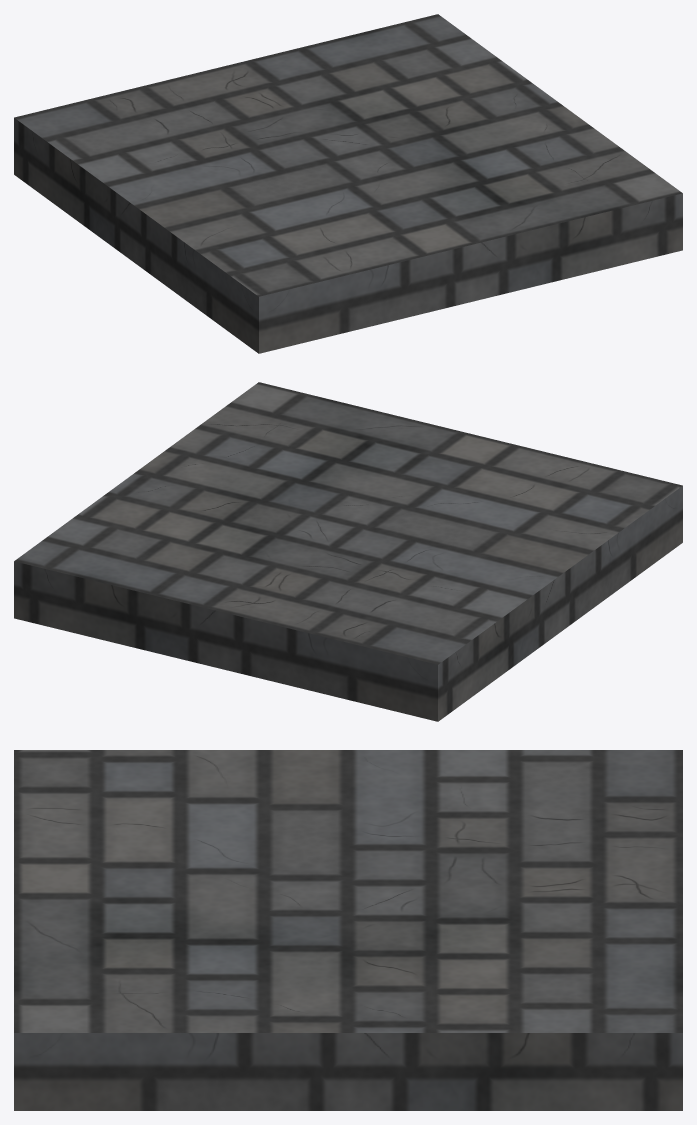
File: kit_ceiling.glb
The picture shows the model from 3 angles, top to bottom: view 1: azimuth 30°, elevation 25°; view 2: azimuth 150°, elevation 25°; view 3: azimuth 270°, elevation 25°; orthographic projection. The views are drawn at different scales.
Visible parts, largest first — view 1: kit_ceiling; view 2: kit_ceiling; view 3: kit_ceiling.
Part boxes in pixels (x1=…): kit_ceiling: x1=14, y1=14, x2=682, y2=353; kit_ceiling: x1=14, y1=382, x2=682, y2=721; kit_ceiling: x1=14, y1=750, x2=682, y2=1110.
Size of the model in its own units: 2.8 by 0.36 by 2.8.
Materials: 1 (1 with a texture image).
